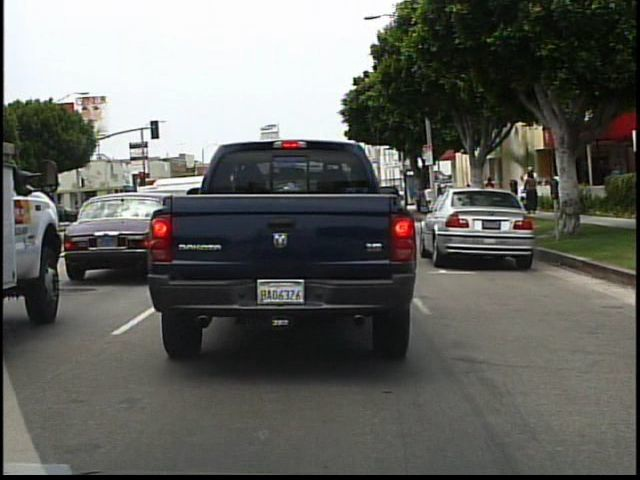person: (483, 174, 499, 212)
